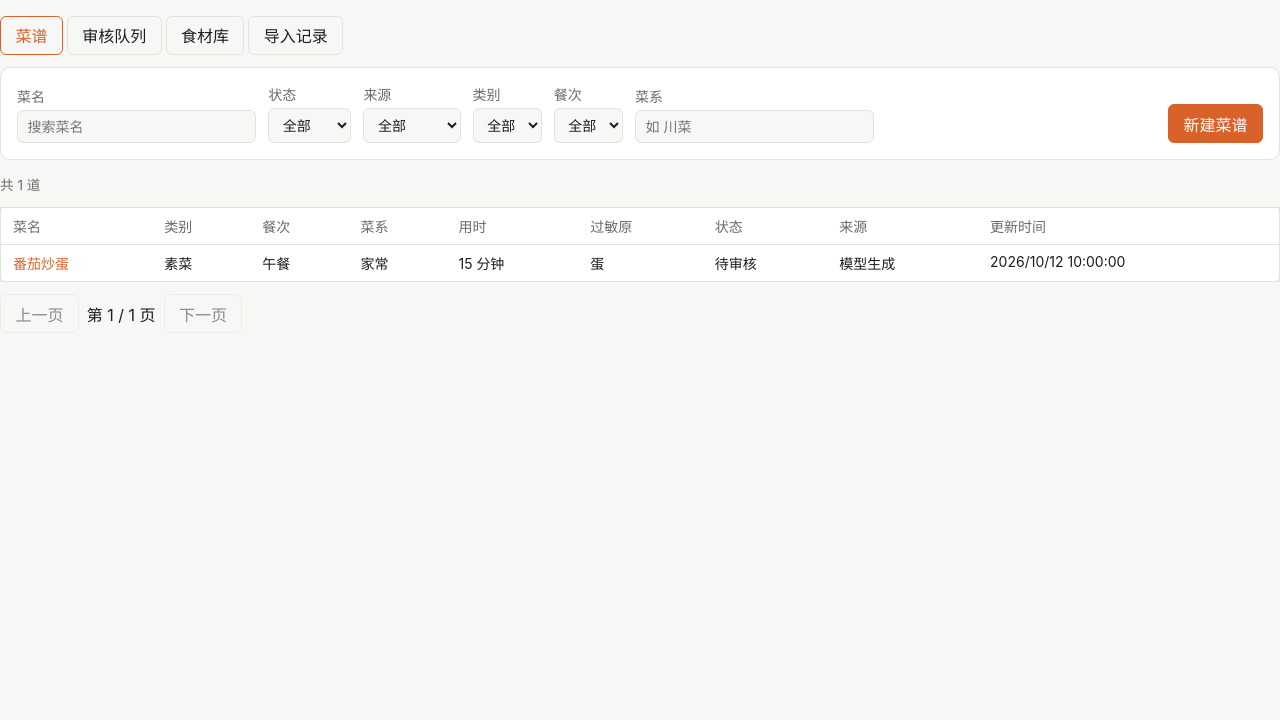
it: recipe management › edits a recipe and sends ingredients by name
The width and height of the screenshot is (1280, 720).
Click the button "番茄炒蛋" at point(41, 263), box [13, 253, 69, 273]
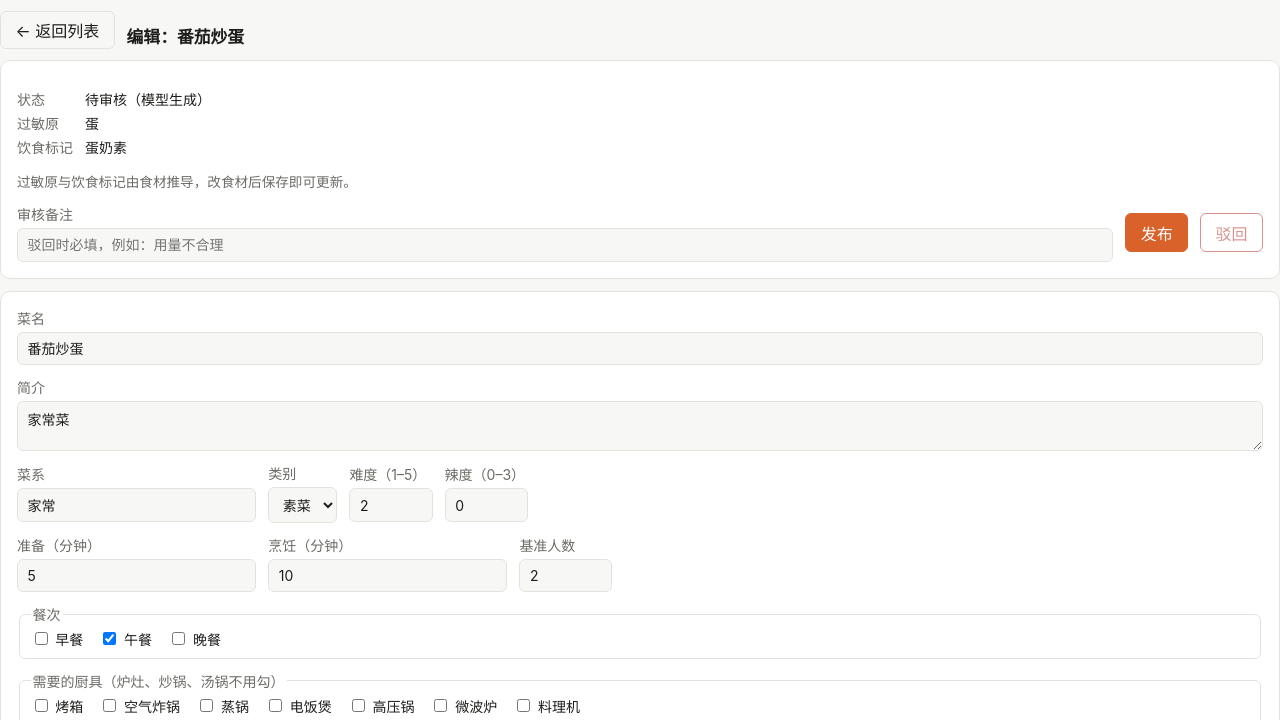
Replace the text in the field showing "番茄炒蛋" with "西红柿炒蛋" at point(640, 348), box [17, 332, 1263, 365]
(page scrolled)
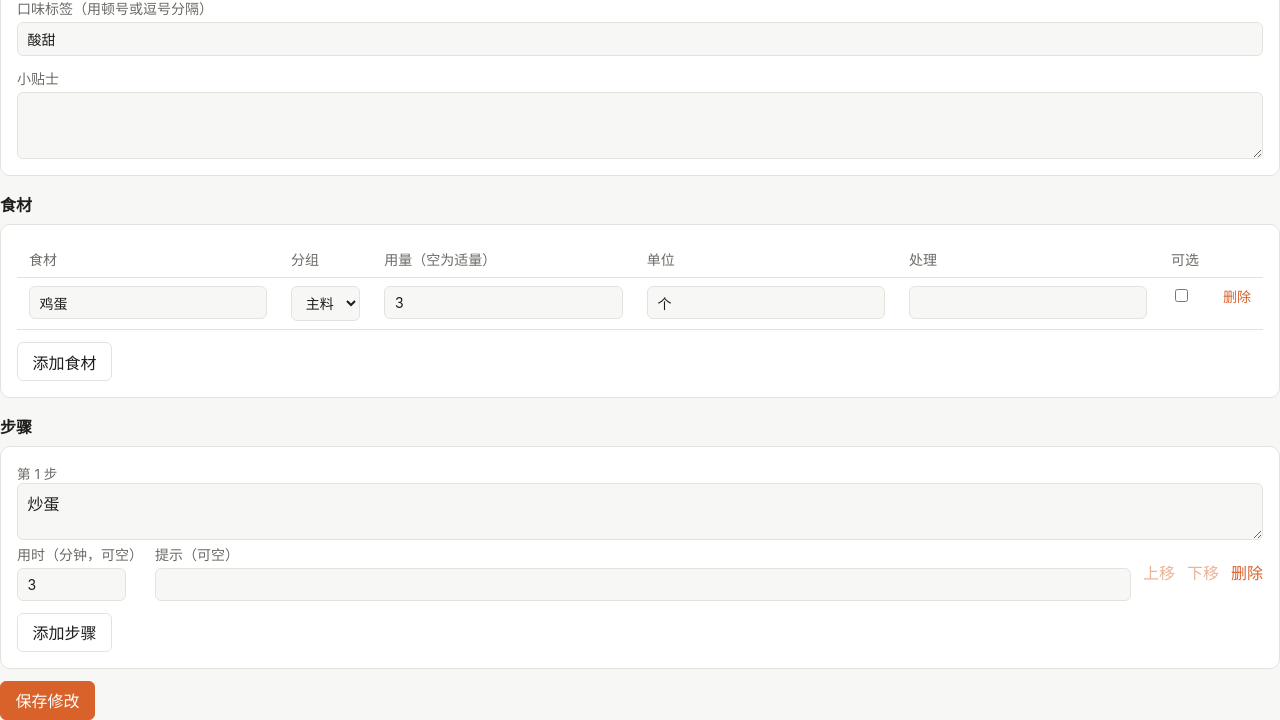
Click the button "保存修改" at point(47, 700), box [0, 681, 95, 719]
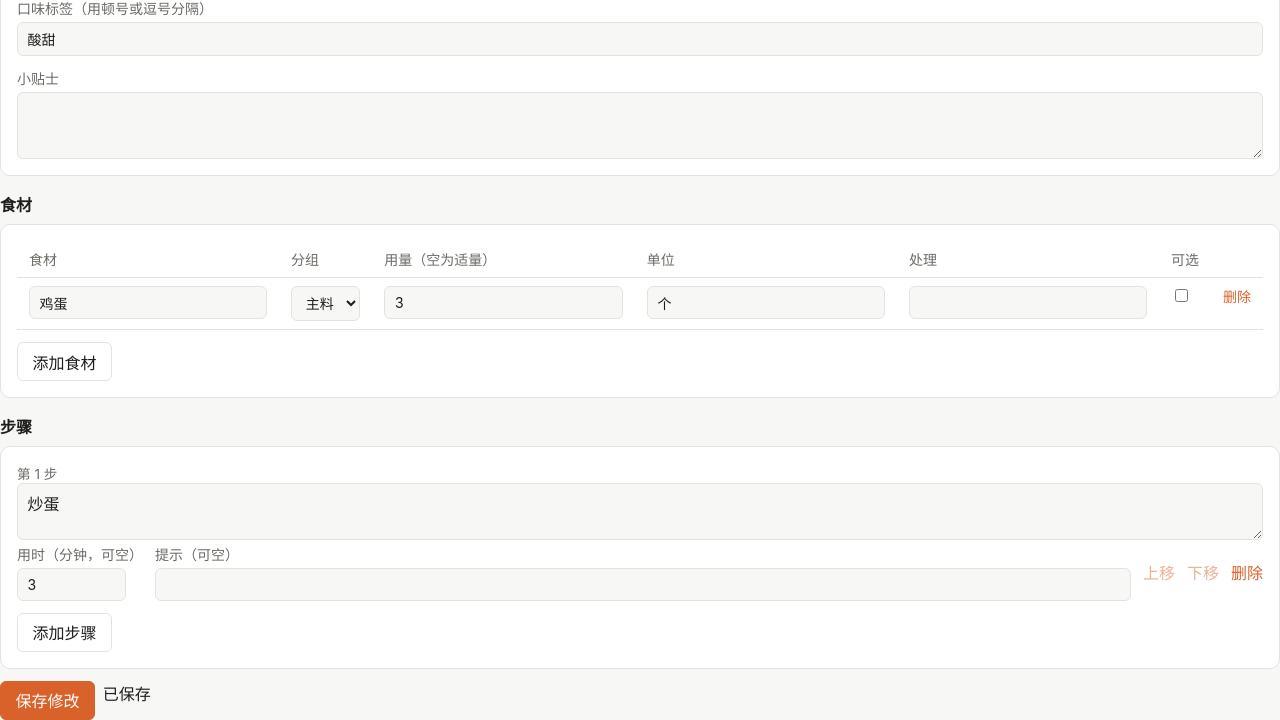
Result: the message "已保存" is shown at [103, 684, 151, 704]
